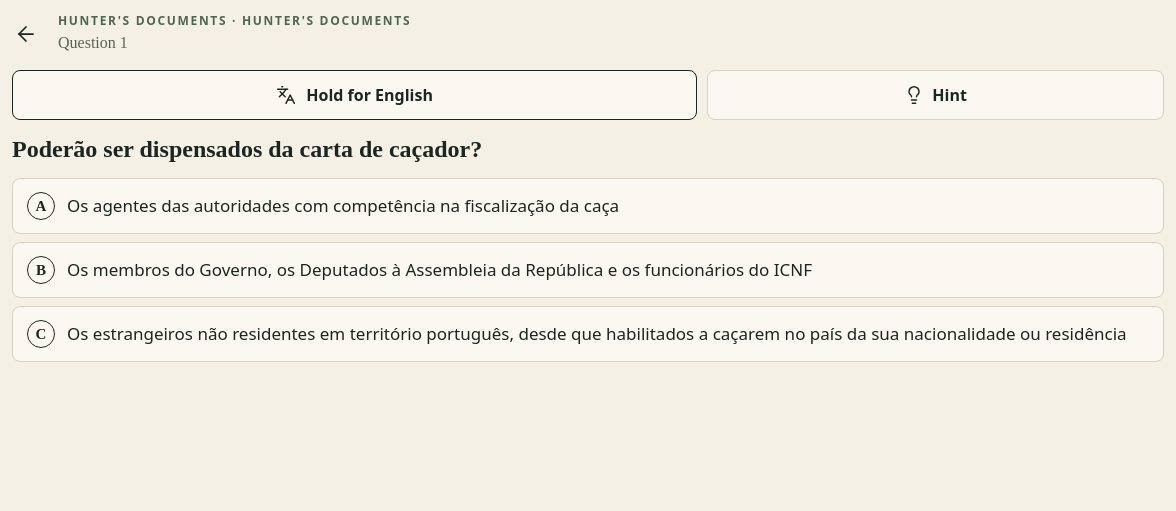
it: PracticePage › reads Report: before the two flag chips, and puts the rust Next under them
Step 1. Click the 3rd button → (588, 206), box [12,178,1164,234]
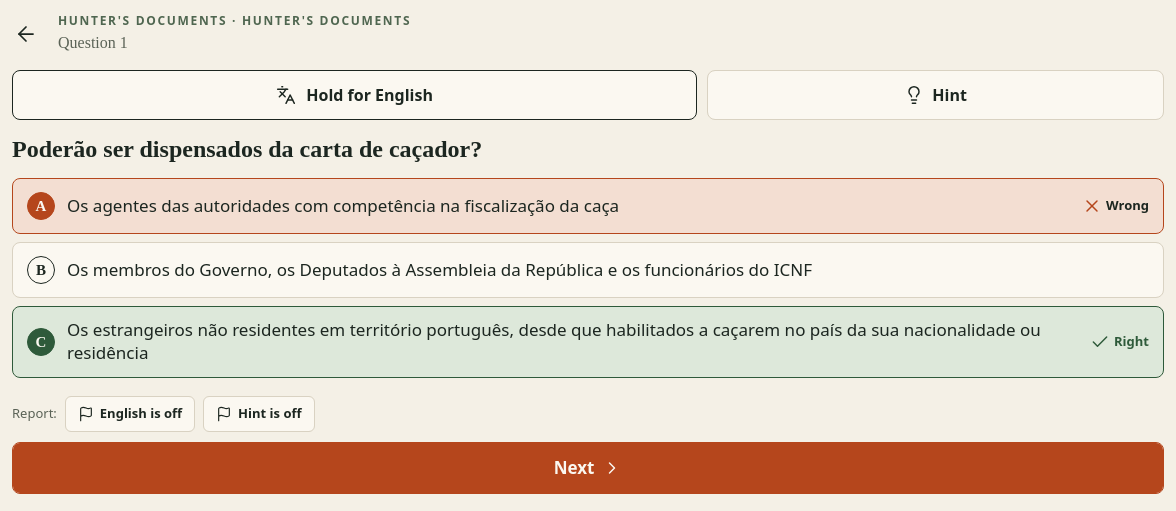
Expected: the 1st icon with class "lucide-flag" is shown, [78,406,94,422]
Expected: the 2nd icon with class "lucide-flag" is shown, [216,406,232,422]
